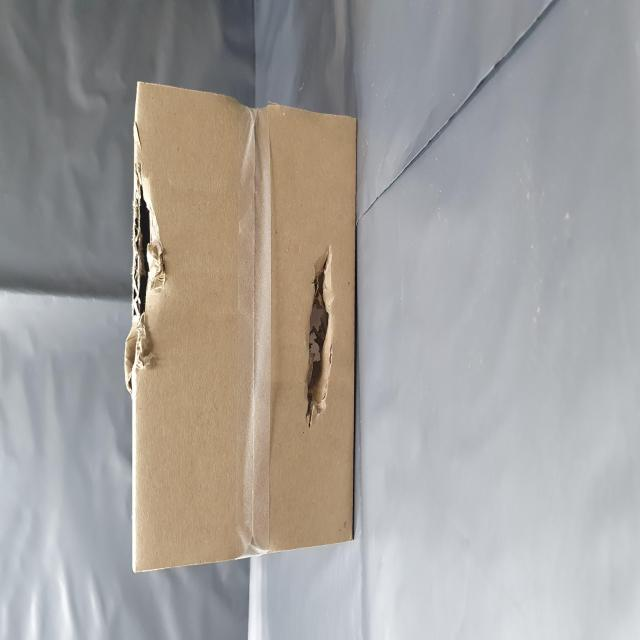damaged: (114, 525, 223, 612), (149, 226, 275, 298)
